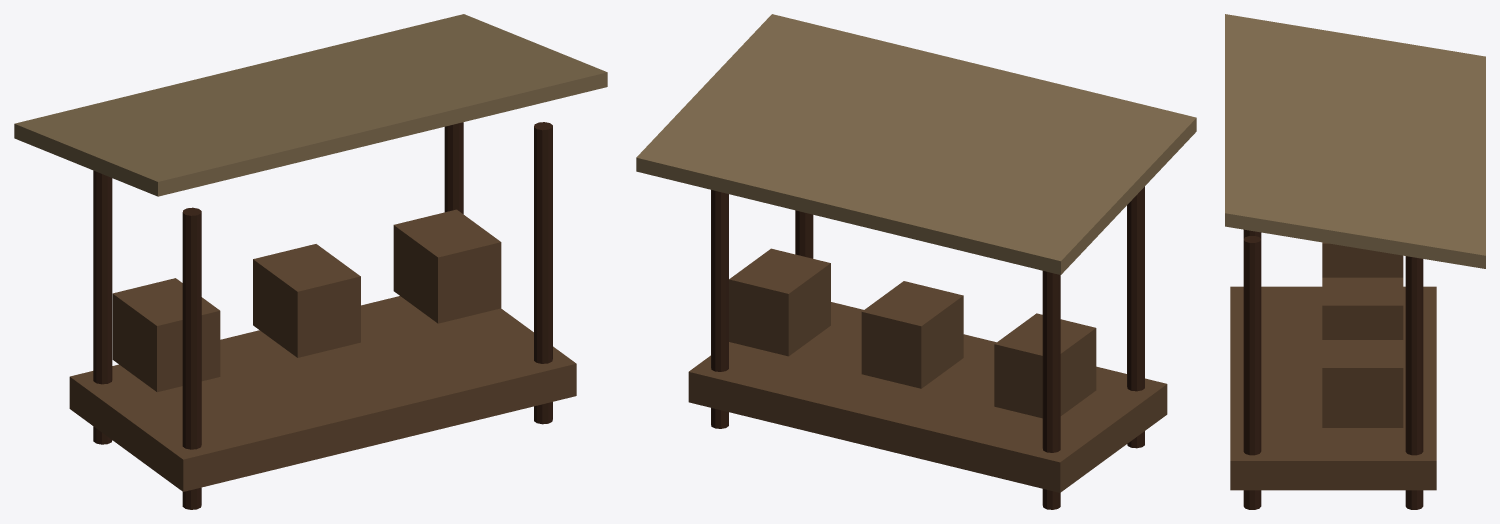
File: GalakasMidCity_VENDOR_FabricStall_Rack_01.obj
3 views of the same model, side by side, from view 1: azimuth 30°, elevation 25°; view 2: azimuth 150°, elevation 25°; view 3: azimuth 270°, elevation 25° (orthographic). The views are drawn at different scales.
Visible parts, largest first — view 1: sloped_canvas_front, stall_counter, crate_2, crate_1, crate_0, post_-1_25_0_55, post_1_25_0_55, post_-1_25_-0_55, post_1_25_-0_55; view 2: sloped_canvas_front, stall_counter, crate_1, crate_2, crate_0, post_-1_25_-0_55, post_-1_25_0_55, post_1_25_-0_55, post_1_25_0_55; view 3: sloped_canvas_front, stall_counter, crate_2, crate_1, post_1_25_0_55, post_1_25_-0_55, crate_0.
Part boxes in pixels (<box>): sloped_canvas_front: <box>14,14,607,196</box>; stall_counter: <box>69,296,576,491</box>; crate_2: <box>393,209,501,323</box>; crate_1: <box>253,244,360,357</box>; crate_0: <box>112,278,220,392</box>; post_-1_25_0_55: <box>182,212,201,509</box>; post_1_25_0_55: <box>534,126,552,424</box>; post_-1_25_-0_55: <box>93,170,112,444</box>; post_1_25_-0_55: <box>444,122,463,214</box>; sloped_canvas_front: <box>636,14,1196,274</box>; stall_counter: <box>688,302,1167,492</box>; crate_1: <box>861,281,963,388</box>; crate_2: <box>729,248,830,356</box>; crate_0: <box>994,313,1096,418</box>; post_-1_25_-0_55: <box>1042,271,1060,509</box>; post_-1_25_0_55: <box>1127,186,1144,448</box>; post_1_25_-0_55: <box>711,190,728,428</box>; post_1_25_0_55: <box>795,210,813,258</box>; sloped_canvas_front: <box>1225,14,1485,268</box>; stall_counter: <box>1230,286,1436,490</box>; crate_2: <box>1322,340,1403,427</box>; crate_1: <box>1322,277,1403,339</box>; post_1_25_0_55: <box>1243,239,1261,509</box>; post_1_25_-0_55: <box>1405,256,1423,509</box>; crate_0: <box>1322,242,1403,277</box>.
Bounding box in the file's own units: 3.2 × 2.36 × 1.77.
